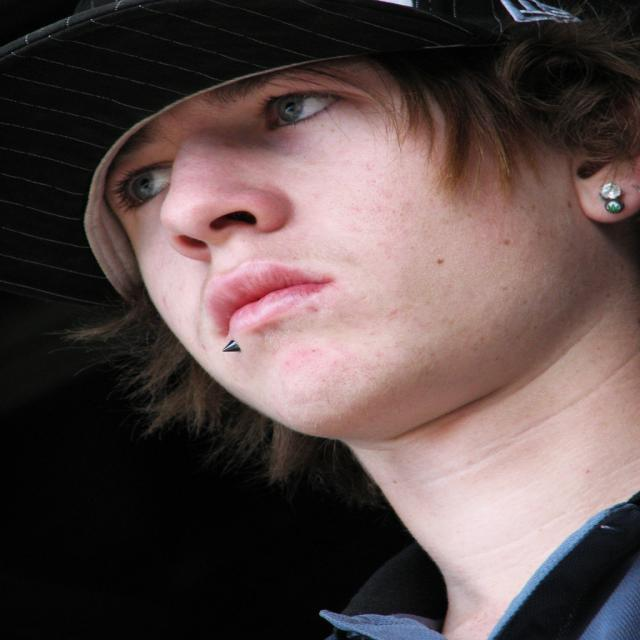closed-mouth: (188, 260, 340, 344)
